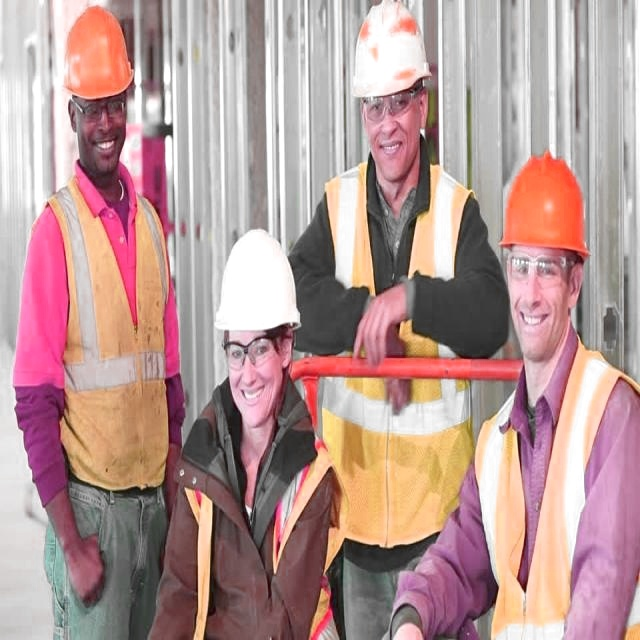Con_Casco: (217, 214, 297, 420)
Con_Chaleco: (316, 175, 476, 537), (37, 181, 176, 489), (482, 364, 626, 639)
